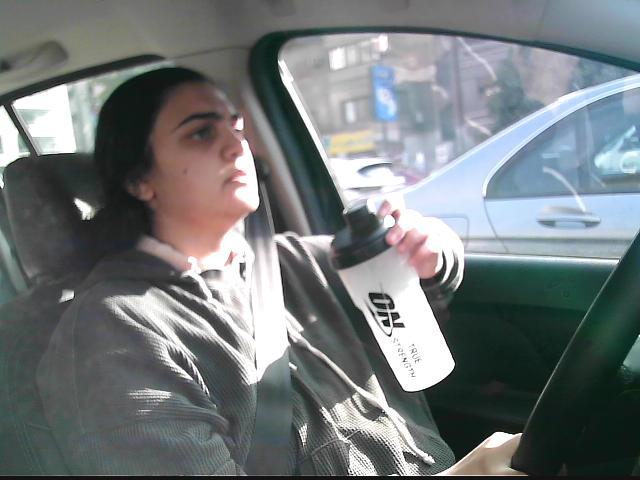Drinking: (327, 196, 457, 393)
